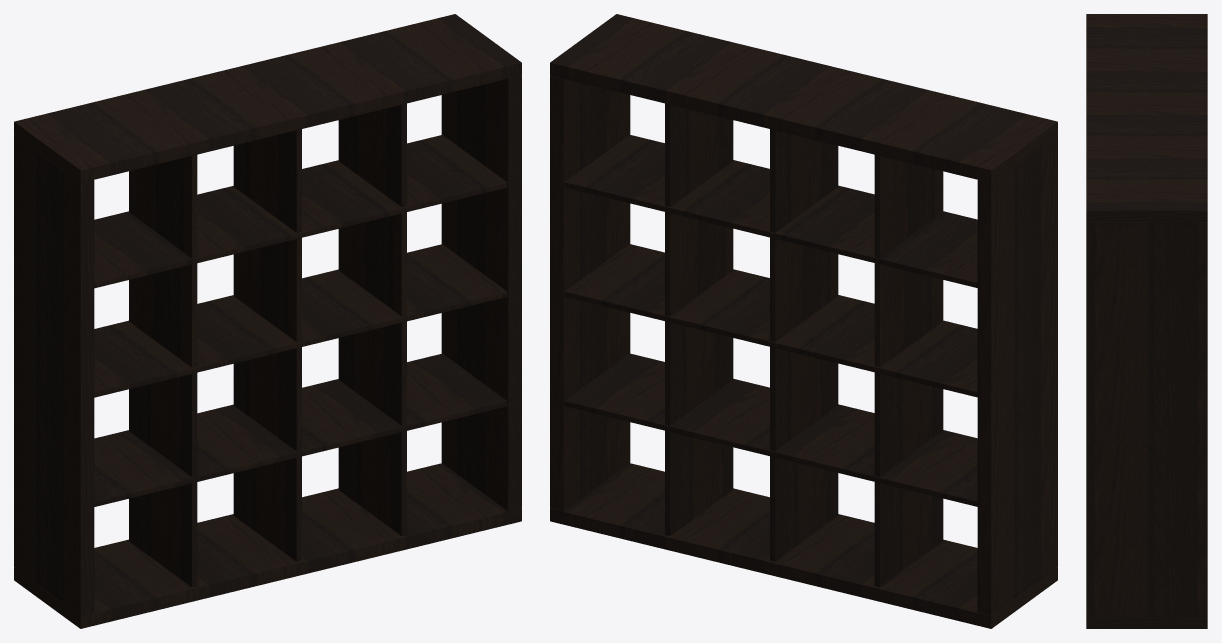
The model's file is Shelve_005_Oak Black.gltf.
The picture shows the model from 3 angles, left to right: view 1: azimuth 30°, elevation 25°; view 2: azimuth 150°, elevation 25°; view 3: azimuth 270°, elevation 25°; orthographic projection. The views are drawn at different scales.
Parts seen in each view (by area): view 1: Shelve_005; view 2: Shelve_005; view 3: Shelve_005.
Part boxes in pixels (x1,y1,x2,y2): Shelve_005: (14,14,521,628); Shelve_005: (550,14,1057,628); Shelve_005: (1086,14,1207,628).
Size of the model in its own units: 1.47 by 1.46 by 0.3843.
Materials: 1 (1 with a texture image).
